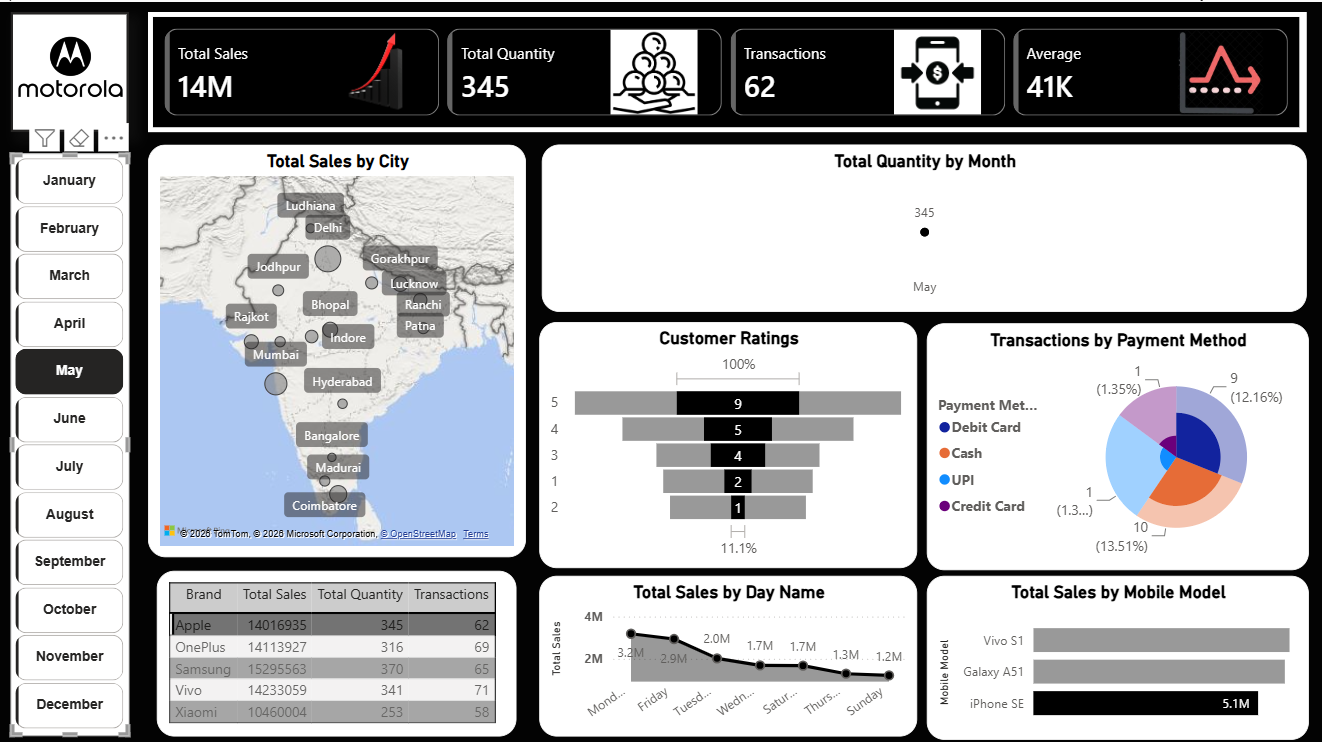

Layout of this report page (visuals, bound fields, positions):
{"tool":"powerbi","page":{"name":"Page 1","canvas":[1280,720],"ordinal":0},"visuals":[{"type":"shape","box":[12.1,146,114.6,562.2],"z":0},{"type":"image","box":[12.1,9.7,114.6,115.8],"z":1000},{"type":"advancedSlicerVisual","fields":{"Values":["Sales Data.Date.Variation.Date Hierarchy.Month"]},"box":[12.1,146,114.6,562.2],"z":2000},{"type":"cardVisual","fields":{"Data":["Sales Data.Total Sales","Sales Data.Total Quantity","Sales Data.Transactions","Sales Data.Average"]},"box":[145,10,1118.8,116.2],"z":3000},{"type":"map","fields":{"Category":["Sales Data.City"],"Size":["Sales Data.Total Sales"]},"box":[145,137.5,365,398.8],"z":4000},{"type":"lineChart","fields":{"Category":["Sales Data.Date.Variation.Date Hierarchy.Month","Sales Data.Date.Variation.Date Hierarchy.Day"],"Y":["Sales Data.Total Quantity"]},"box":[525,137.5,738.8,161.2],"z":5000},{"type":"clusteredBarChart","fields":{"Category":["Sales Data.Mobile Model"],"Y":["Sales Data.Total Sales"]},"box":[896.2,553.8,368.8,158.8],"z":6000},{"type":"pieChart","fields":{"Category":["Sales Data.Payment Method"],"Y":["Sales Data.Transactions"]},"box":[896.2,310,368.8,238.8],"z":7000},{"type":"funnel","title":"Customer Ratings ","fields":{"Category":["Sales Data.Customer Ratings"],"Y":["CountNonNull(Sales Data.Customer Ratings)"]},"box":[522.5,308.8,365,237.5],"z":8000},{"type":"areaChart","fields":{"Y":["Sales Data.Total Sales"],"Category":["Sales Data.Day Name"]},"box":[522.5,553.8,365,155],"z":9000},{"type":"tableEx","fields":{"Values":["Sales Data.Brand","Sales Data.Total Sales","Sales Data.Total Quantity","Sales Data.Transactions"]},"box":[153.8,548.8,347.5,160],"z":10000}]}

Visuals, with their boxes in screenshot pixels (x1, y1, x2, y2):
shape: [6,147,127,741]
image: [6,3,127,126]
advancedSlicerVisual - Sales Data.Date.Variation.Date Hierarchy.Month: [6,147,127,741]
cardVisual - Sales Data.Total Sales x Sales Data.Total Quantity: [146,4,1321,126]
map - Sales Data.City x Sales Data.Total Sales: [146,138,532,559]
lineChart - Sales Data.Date.Variation.Date Hierarchy.Month x Sales Data.Date.Variation.Date Hierarchy.Day: [547,138,1321,309]
clusteredBarChart - Sales Data.Mobile Model x Sales Data.Total Sales: [939,578,1321,741]
pieChart - Sales Data.Payment Method x Sales Data.Transactions: [939,320,1321,573]
"Customer Ratings " funnel: [545,319,930,570]
areaChart - Sales Data.Total Sales x Sales Data.Day Name: [545,578,930,741]
tableEx - Sales Data.Brand x Sales Data.Total Sales: [156,573,522,741]
